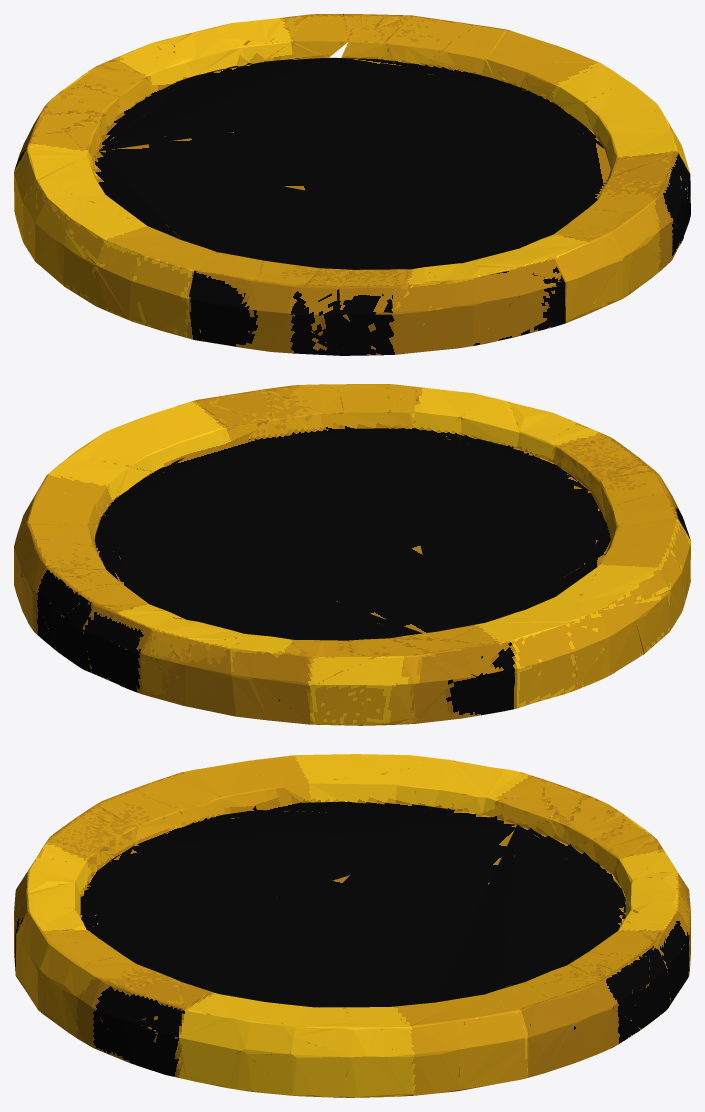
3 views of the same model, one above another, from view 1: azimuth 30°, elevation 25°; view 2: azimuth 150°, elevation 25°; view 3: azimuth 270°, elevation 25° (orthographic).
Visible parts, largest first — view 1: OBJ0ac; view 2: OBJ0ac; view 3: OBJ0ac.
Boxes of the visible parts, x1,y1,x2,y2 form: OBJ0ac: (14, 14, 690, 355); OBJ0ac: (14, 384, 690, 725); OBJ0ac: (14, 754, 690, 1097).
Size of the model in its own units: 0.2434 by 0.0276 by 0.2433.
1 material, 1 textured.
